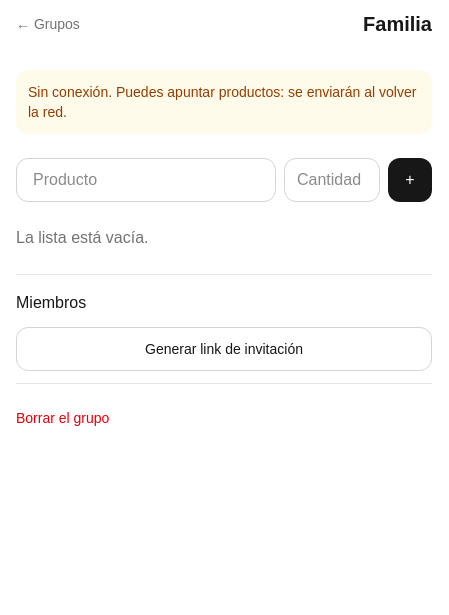
Scenario: Spec J · el enlace de invitación se comparte › j13: un rechazo con otro name sí pinta aviso, aunque el mensaje diga «abort»
Click the button with test id "create-invite" at (224, 349), box top-left (16, 327), bottom-right (432, 371)
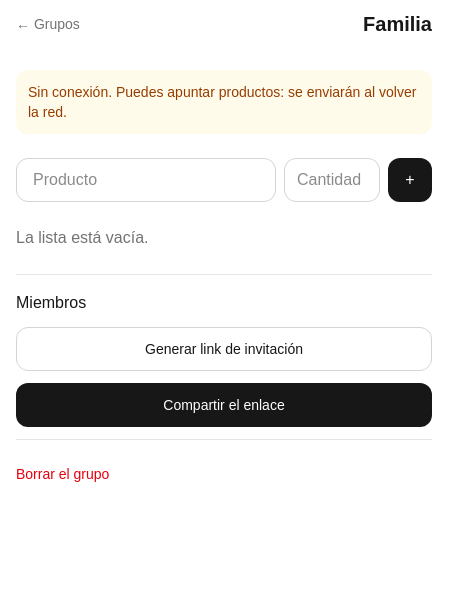
Click the button with test id "share-invite" at (224, 405), box top-left (16, 383), bottom-right (432, 427)
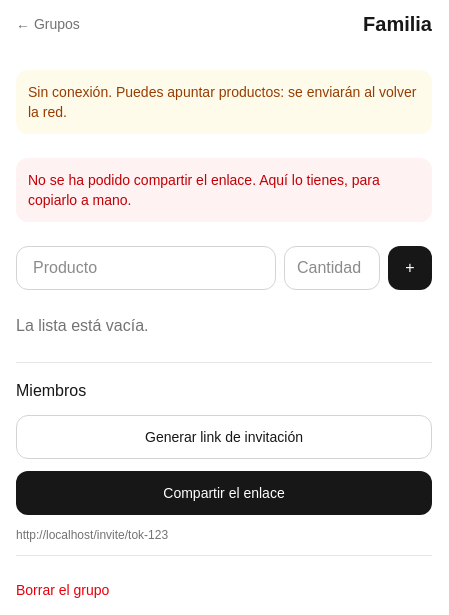
Expected: the message with test id "notice" reads "No se ha podido compartir el enlace. Aquí lo tienes, para copiarlo a mano.", top-left (28, 172), bottom-right (380, 208)
